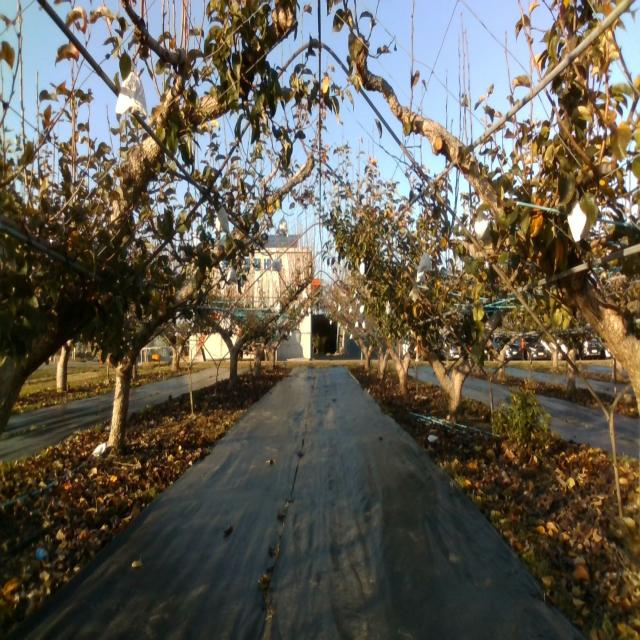pearbags: (115, 73, 146, 117), (566, 200, 588, 243), (212, 207, 230, 233), (474, 213, 489, 243), (418, 252, 433, 274), (276, 214, 288, 240)
